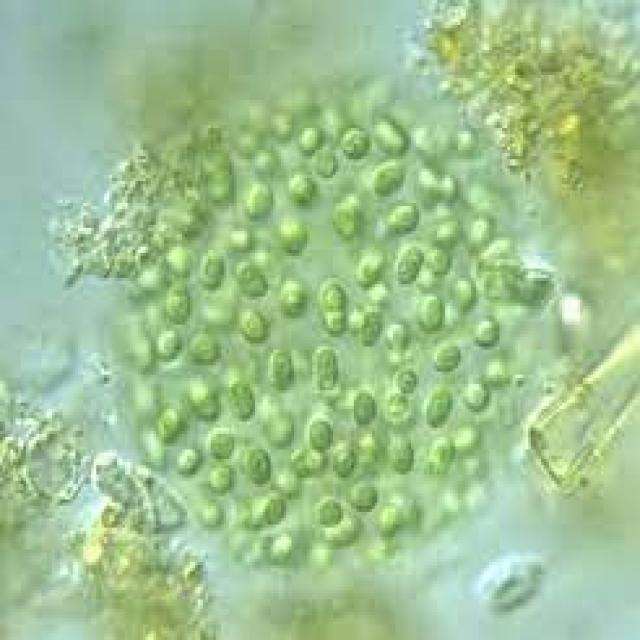Blue Green Algae: (369, 156, 406, 197), (239, 181, 276, 222), (232, 259, 268, 300), (312, 496, 349, 534), (276, 281, 310, 322), (422, 387, 456, 428), (414, 290, 445, 334), (312, 344, 338, 396), (429, 337, 463, 375), (286, 169, 318, 209), (265, 350, 294, 393), (229, 378, 258, 421), (396, 240, 424, 284), (245, 447, 273, 490), (239, 306, 268, 346), (341, 125, 372, 162), (166, 284, 192, 328), (388, 434, 416, 474), (331, 197, 356, 240), (463, 375, 492, 412), (388, 200, 419, 234), (198, 250, 224, 290), (156, 325, 182, 362), (206, 428, 237, 459), (348, 481, 379, 512), (260, 494, 292, 524), (359, 309, 382, 350), (310, 147, 340, 178), (351, 390, 375, 428), (304, 415, 330, 450), (331, 446, 356, 481), (190, 331, 218, 362), (435, 216, 463, 247), (471, 316, 499, 346), (174, 447, 200, 478), (299, 125, 325, 153), (393, 366, 419, 394)
